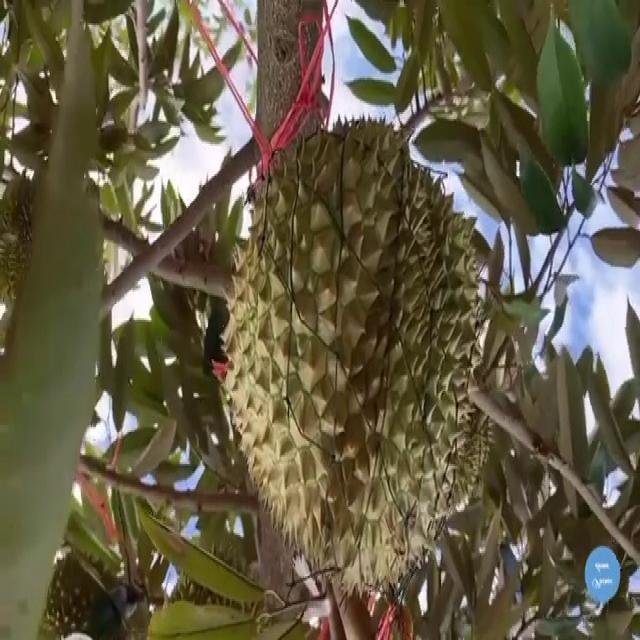durian: (213, 115, 487, 606)
